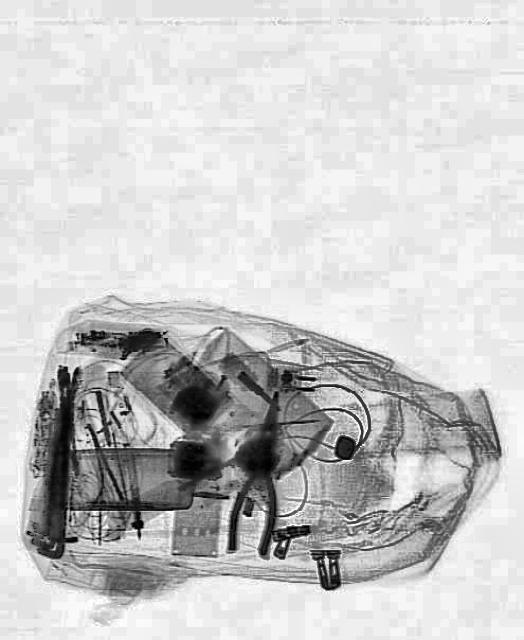Pliers: (224, 384, 298, 558)
